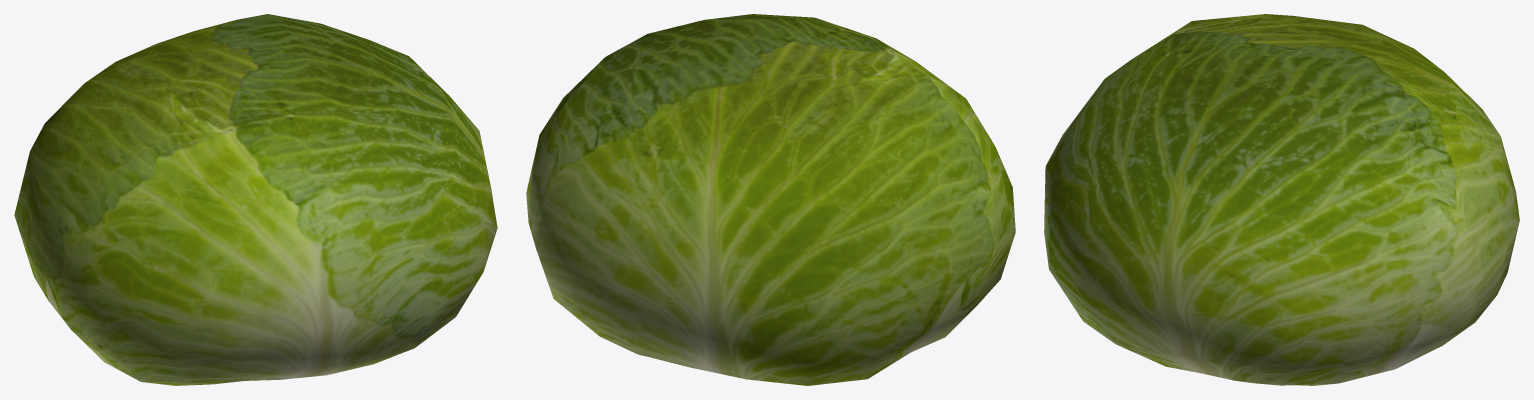
File: Prop_Vegetables_Lettuce.fbx
The picture shows the model from 3 angles, left to right: view 1: azimuth 30°, elevation 25°; view 2: azimuth 150°, elevation 25°; view 3: azimuth 270°, elevation 25°; orthographic projection.
Visible parts, largest first — view 1: Prop_Vegetables_Lettuce; view 2: Prop_Vegetables_Lettuce; view 3: Prop_Vegetables_Lettuce.
Boxes of the visible parts, bbox=[...] form: Prop_Vegetables_Lettuce: bbox=[14, 14, 497, 385]; Prop_Vegetables_Lettuce: bbox=[526, 14, 1015, 385]; Prop_Vegetables_Lettuce: bbox=[1044, 14, 1519, 385].
Bounding box in the file's own units: 15.68 × 10.68 × 14.9.
